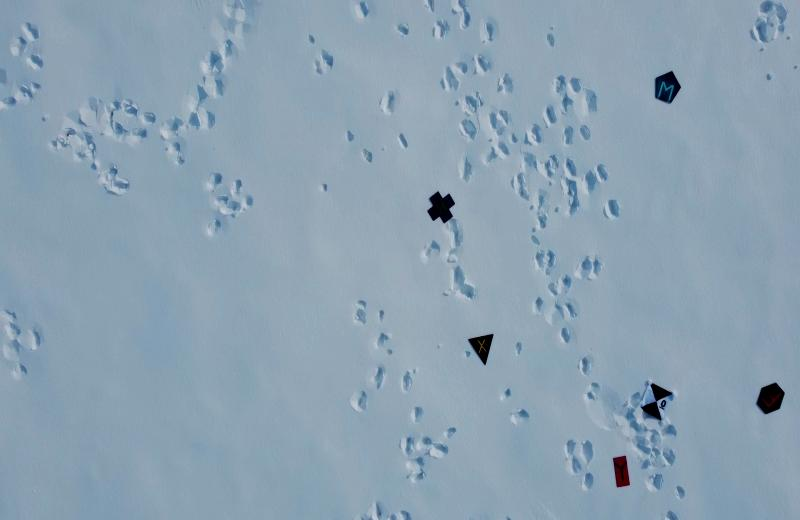Cross: (425, 189, 455, 228)
Hexagon: (755, 381, 786, 416)
Pentagon: (650, 70, 686, 109)
Rectangle: (612, 456, 632, 490)
Triangle: (465, 330, 496, 366)
